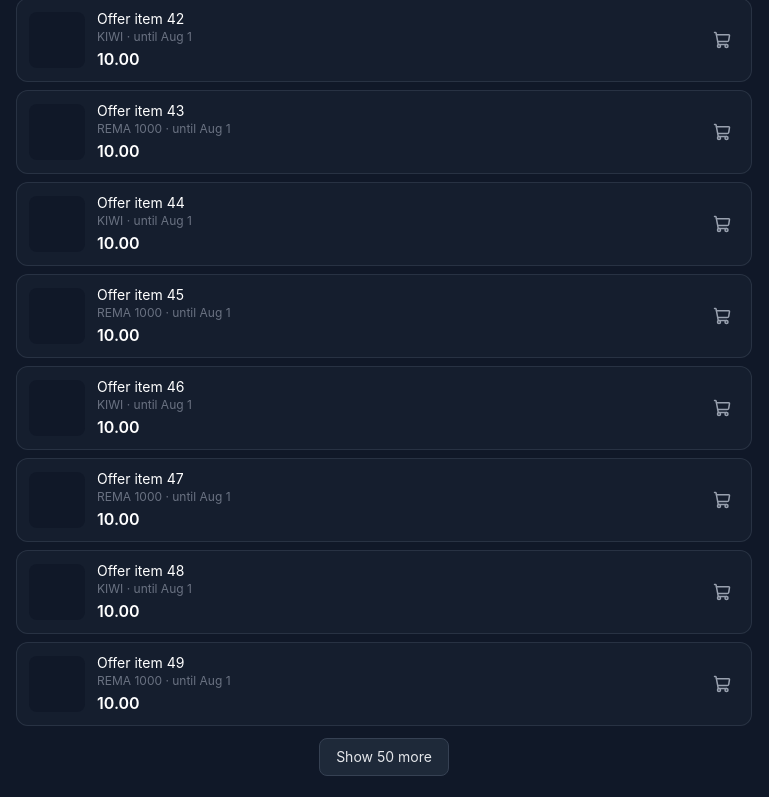
OffersPage › paging and filtered-empty state › resets to the first page when a chain is toggled
(page scrolled)
Click the button "Show 50 more" at (384, 757), box [319,738,449,776]
(page scrolled)
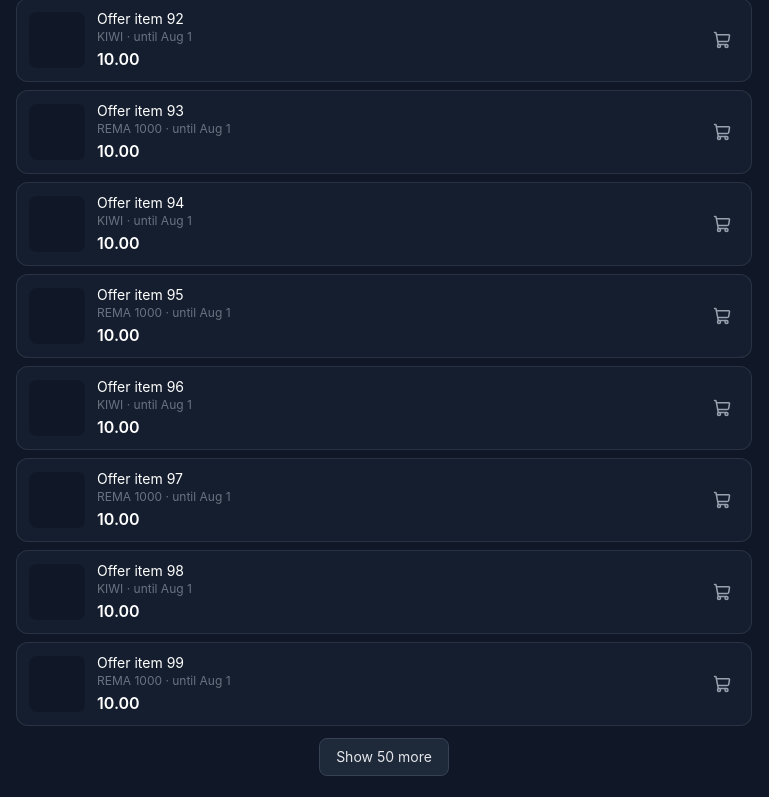
Click the button "Show 50 more" at (384, 757), box [319,738,449,776]
(page scrolled)
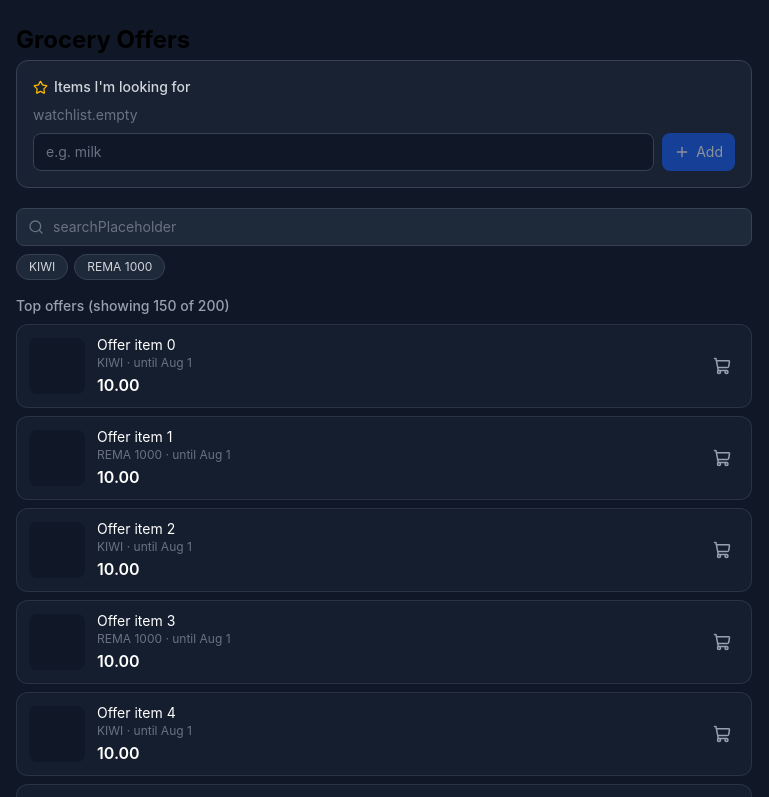
Click the button "KIWI" at (42, 267), box [16,254,68,280]
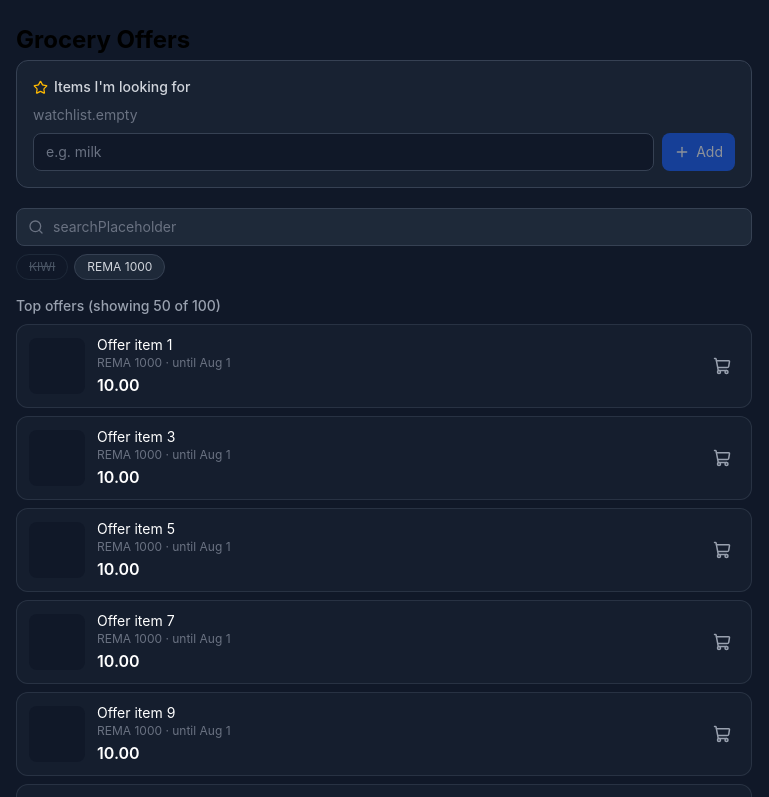
Expected: the heading "Top offers (showing 50 of 100)" is shown, [16,297,221,314]
